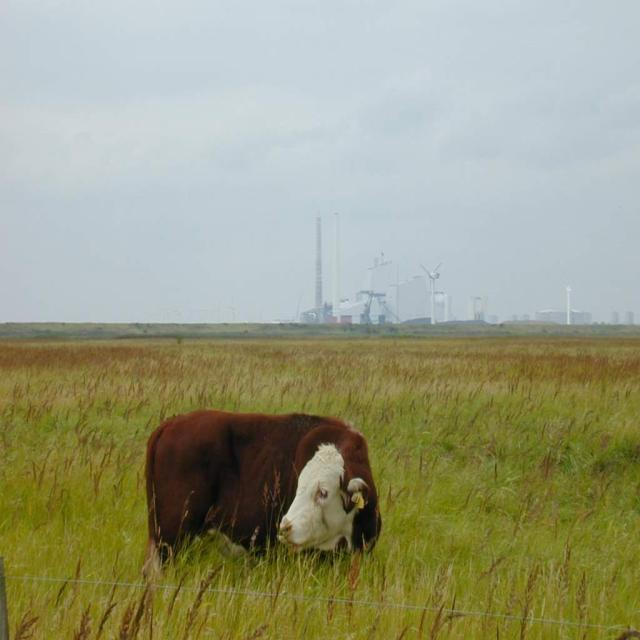cow: (145, 411, 381, 568)
